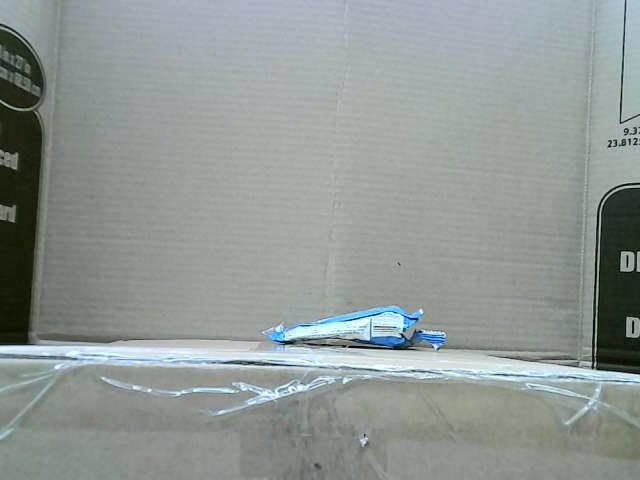CandyWrapper: (264, 305, 446, 353)
